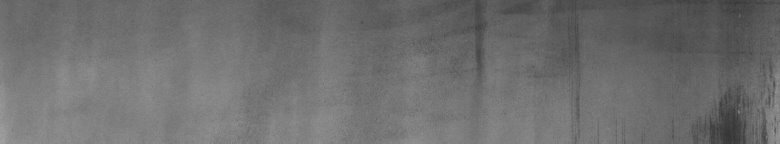ka: (700, 63, 776, 136)
